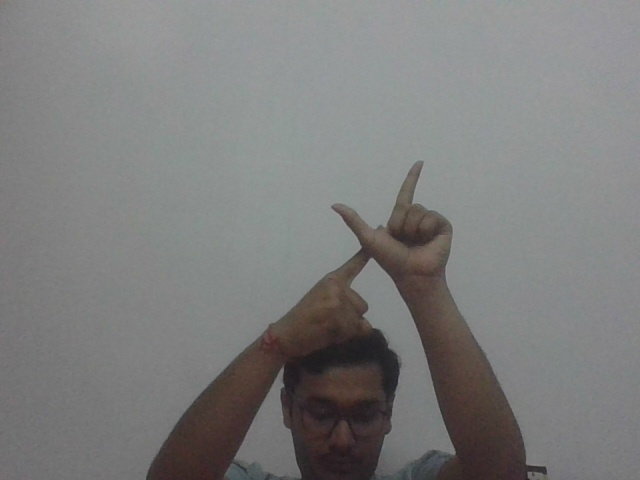Y: (325, 155, 454, 337)
